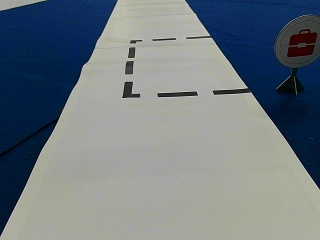company: (275, 14, 319, 66)
